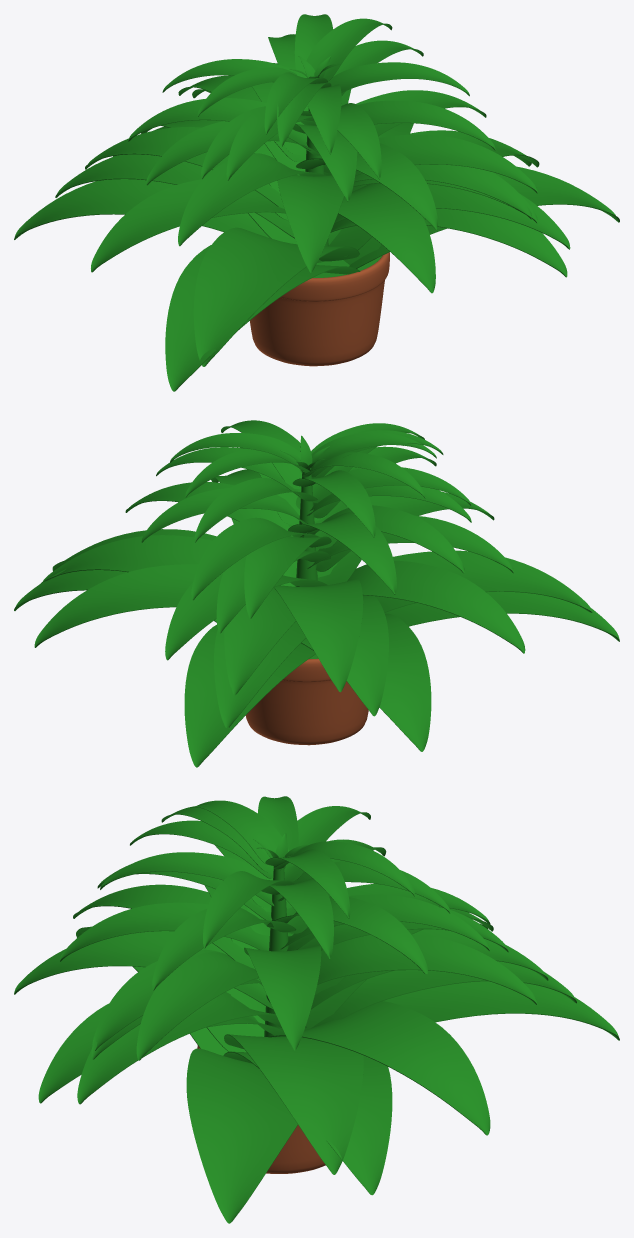
File: Paku Pakis(Tidak Berbunga).glb
3 views of the same model, one above another, from view 1: azimuth 30°, elevation 25°; view 2: azimuth 150°, elevation 25°; view 3: azimuth 270°, elevation 25° (orthographic). The views are drawn at different scales.
Parts seen in each view (by area): view 1: imagetostl_mesh0; view 2: imagetostl_mesh0; view 3: imagetostl_mesh0.
Part boxes in pixels (x1,y1,x2,y2): imagetostl_mesh0: (14,14,619,391); imagetostl_mesh0: (14,420,619,767); imagetostl_mesh0: (14,796,619,1223).
Size of the model in its own units: 115 by 61.6 by 107.
